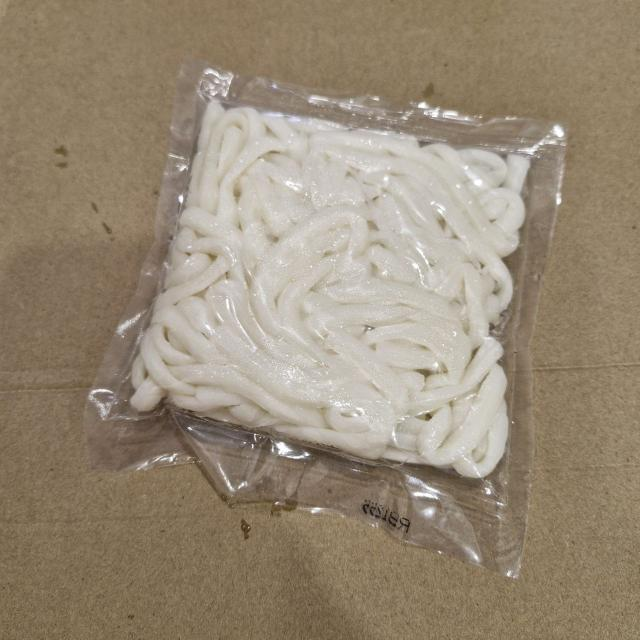food_waste: (133, 98, 538, 477)
plastic: (68, 43, 575, 575)
